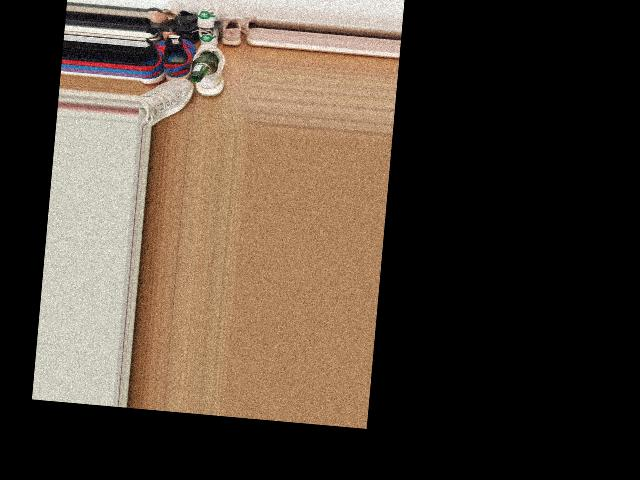beer: (190, 50, 218, 84)
